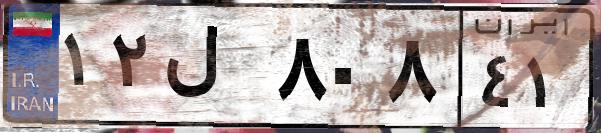0: (330, 28, 385, 110)
1: (57, 26, 110, 100), (525, 38, 570, 115)
2: (110, 28, 158, 98)
4: (475, 38, 525, 113)
8: (270, 28, 330, 110), (385, 28, 445, 110)
ل: (158, 20, 270, 120)
